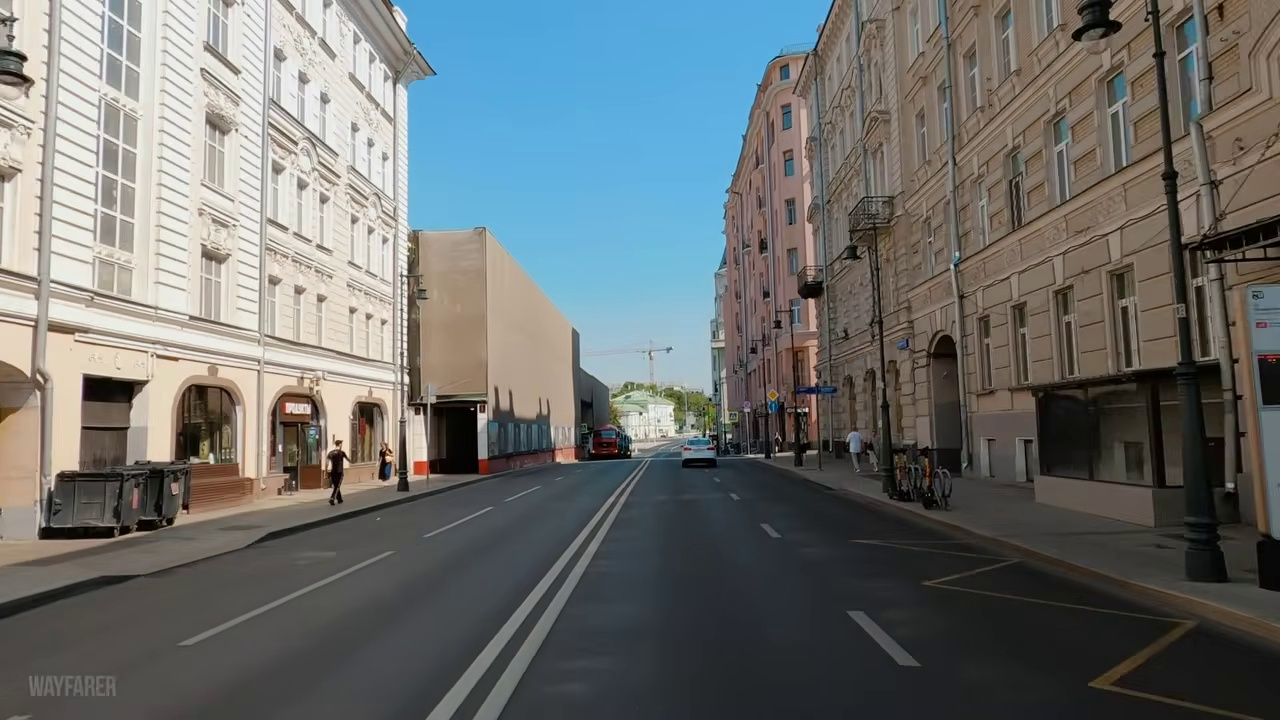apagada: (1071, 0, 1124, 47)
